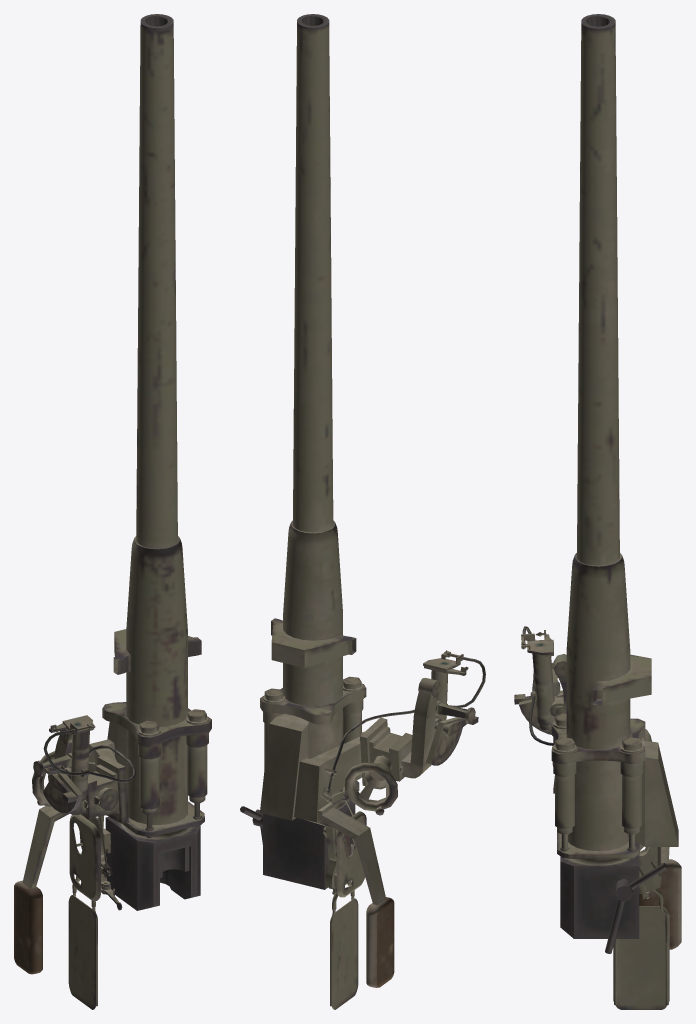
The model's file is Gun_03.glb.
The picture shows the model from 3 angles, left to right: view 1: azimuth 30°, elevation 25°; view 2: azimuth 150°, elevation 25°; view 3: azimuth 270°, elevation 25°; orthographic projection. The views are drawn at different scales.
Parts seen in each view (by area): view 1: set_0_group_0; view 2: set_0_group_0; view 3: set_0_group_0.
Boxes of the visible parts, bbox=[...] form: set_0_group_0: bbox=[14, 14, 211, 1009]; set_0_group_0: bbox=[240, 14, 485, 1009]; set_0_group_0: bbox=[514, 14, 681, 1009].
Size of the model in its own units: 0.567 by 2.79 by 0.4177.
1 material, 1 textured.
